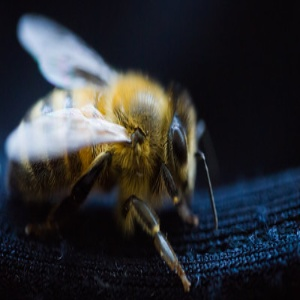bee: (8, 13, 220, 289)
